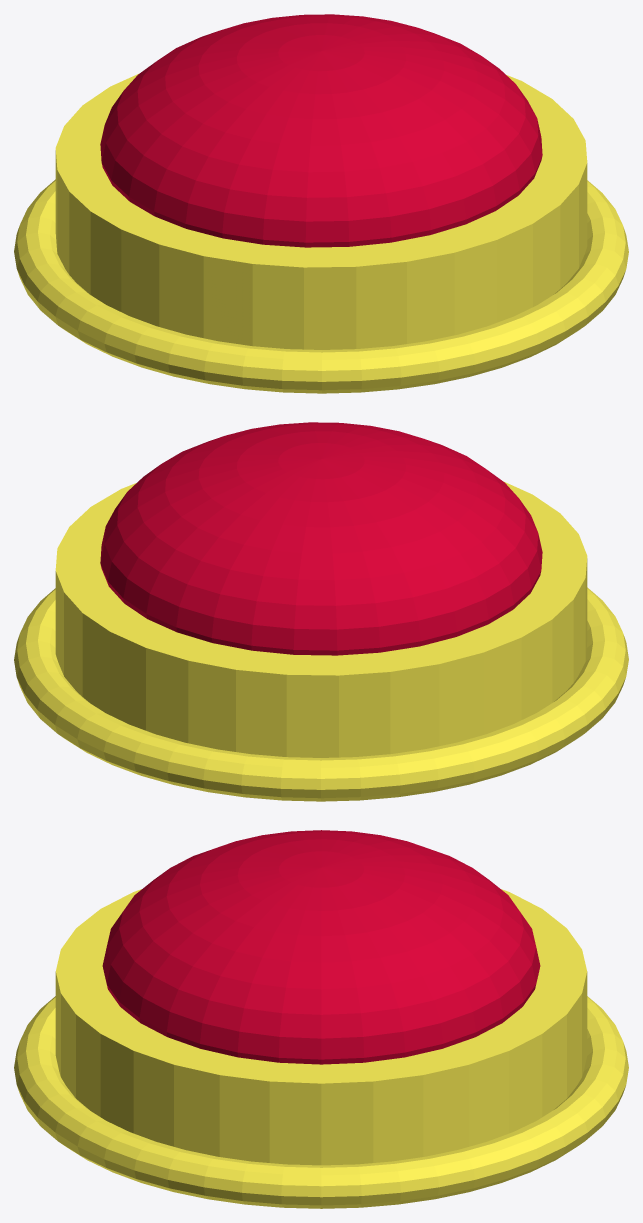
File: Object_Mine.glb
3 views of the same model, one above another, from view 1: azimuth 30°, elevation 25°; view 2: azimuth 150°, elevation 25°; view 3: azimuth 270°, elevation 25° (orthographic).
Parts seen in each view (by area): view 1: Mine; view 2: Mine; view 3: Mine.
Boxes of the visible parts, x1=… form: Mine: x1=14, y1=14, x2=628, y2=393; Mine: x1=14, y1=422, x2=628, y2=801; Mine: x1=14, y1=830, x2=628, y2=1208.
Bounding box in the file's own units: 2.31 × 0.9106 × 2.31.
